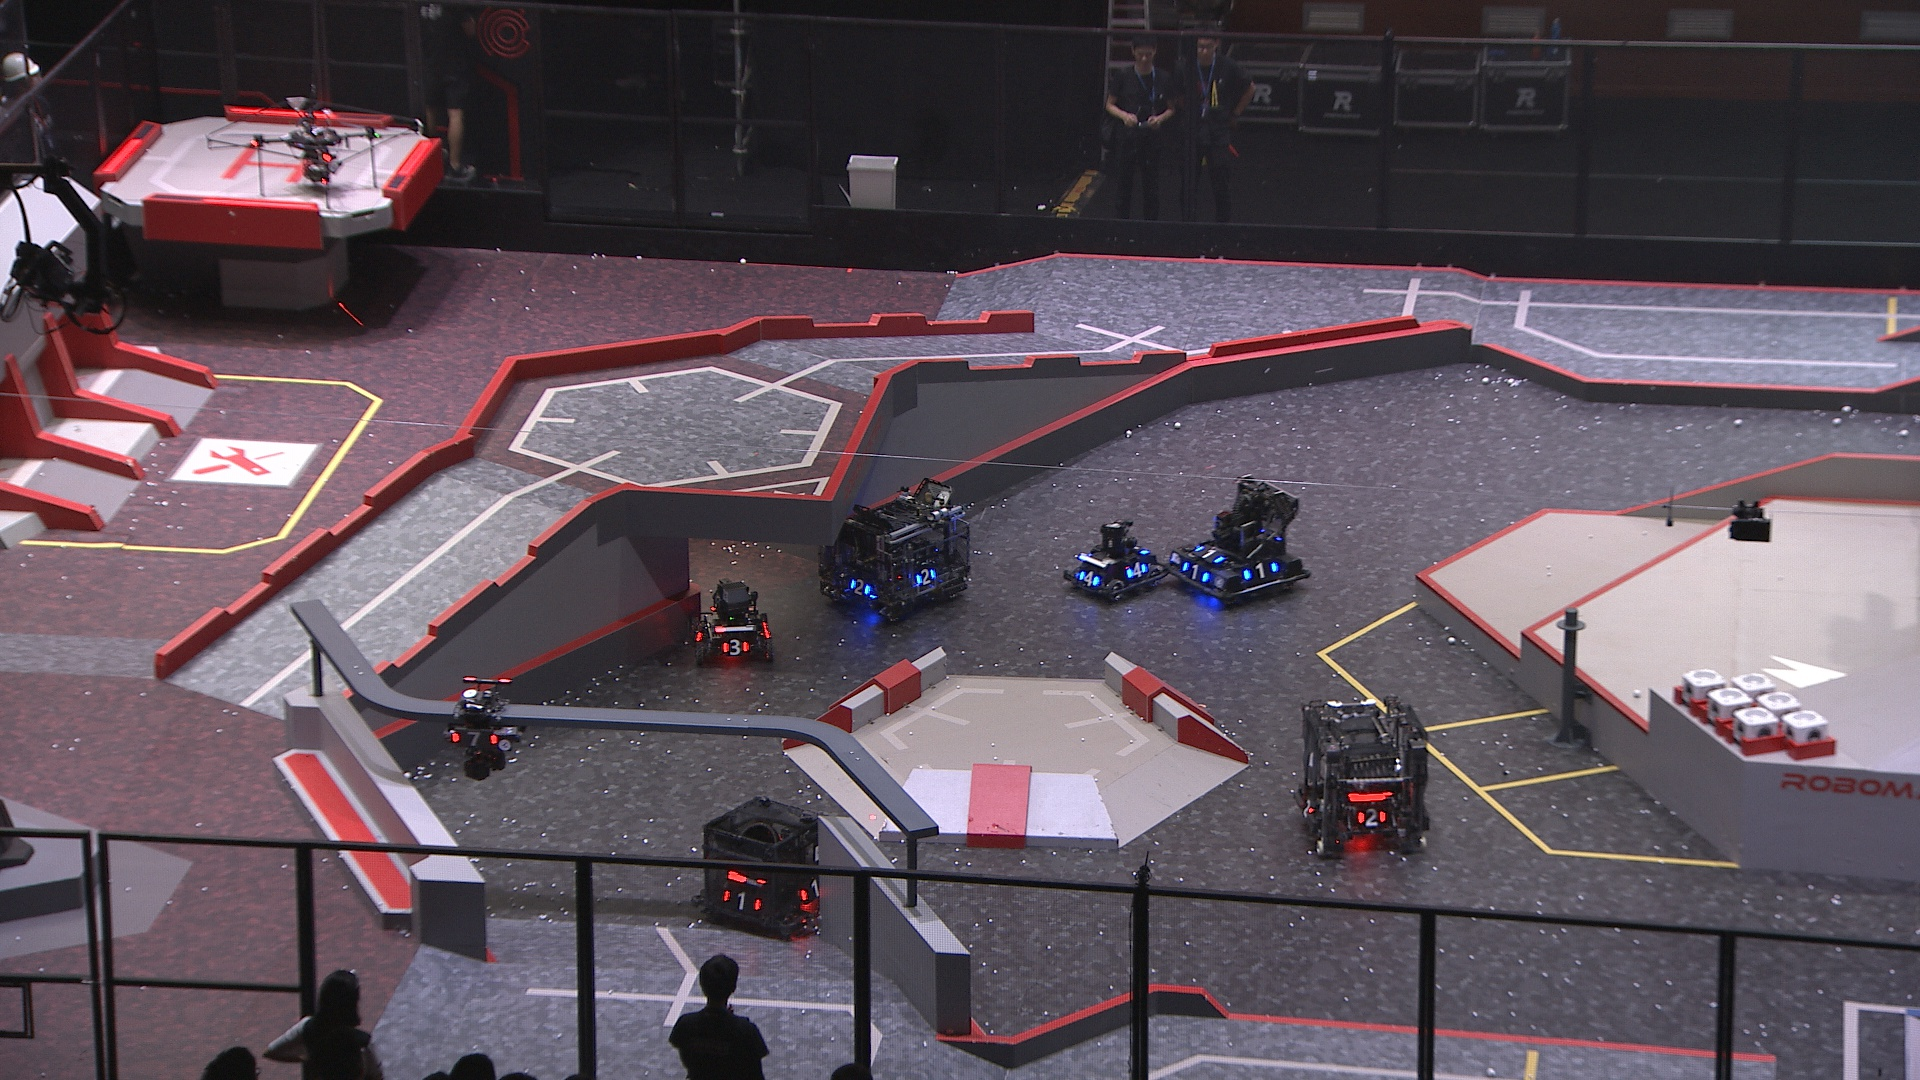armor: (721, 887, 764, 913), (1240, 559, 1282, 584), (447, 731, 498, 749), (1356, 806, 1389, 829), (1182, 560, 1215, 584), (717, 637, 752, 659), (1193, 546, 1228, 564), (796, 880, 823, 903), (1121, 559, 1150, 580), (913, 566, 939, 588), (847, 578, 873, 599), (1076, 567, 1101, 588), (1127, 541, 1153, 559), (1298, 796, 1315, 818)
car: (1291, 692, 1436, 858), (818, 473, 978, 622), (1166, 472, 1315, 603), (695, 793, 827, 938), (1060, 513, 1162, 607), (692, 579, 775, 671)
watcher: (442, 675, 527, 785)
